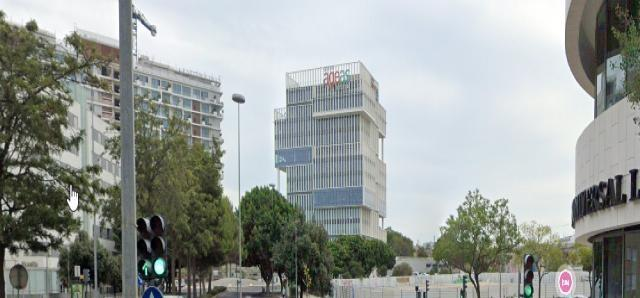green_light: (150, 215, 168, 278), (136, 217, 152, 280), (524, 253, 534, 298)
